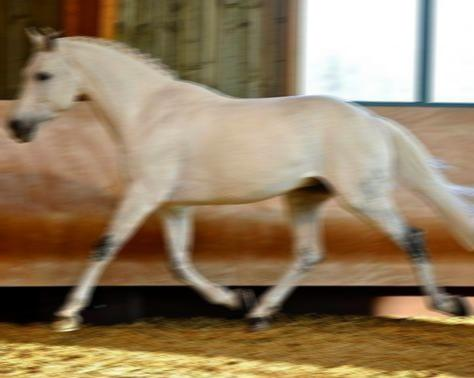horse: (1, 23, 474, 332)
